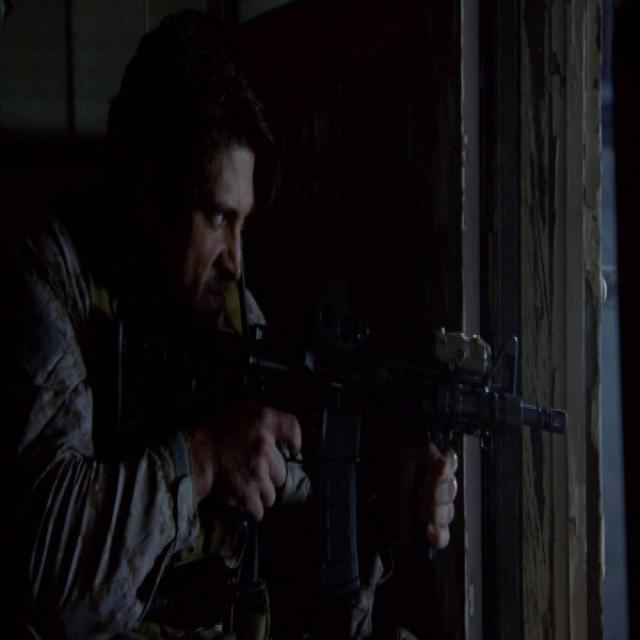rifle: (99, 269, 573, 604)
